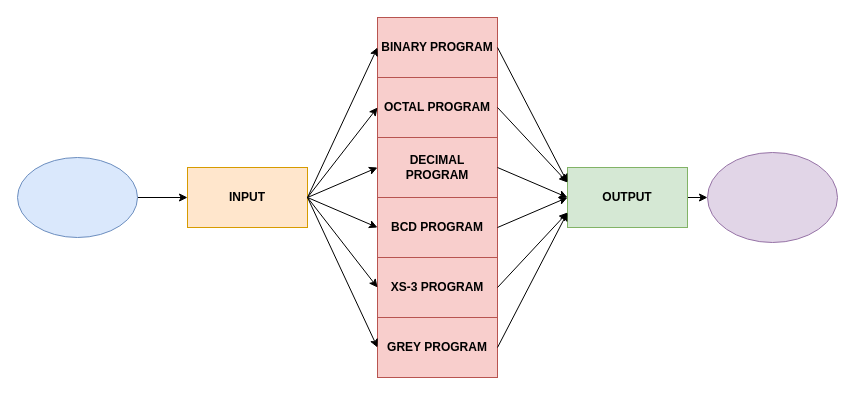
Image size: 855x395. Some labels were removed from this diagram. Each missing label, with the box of its shape:
START: (16, 156, 138, 238)
STOP: (706, 152, 838, 242)
